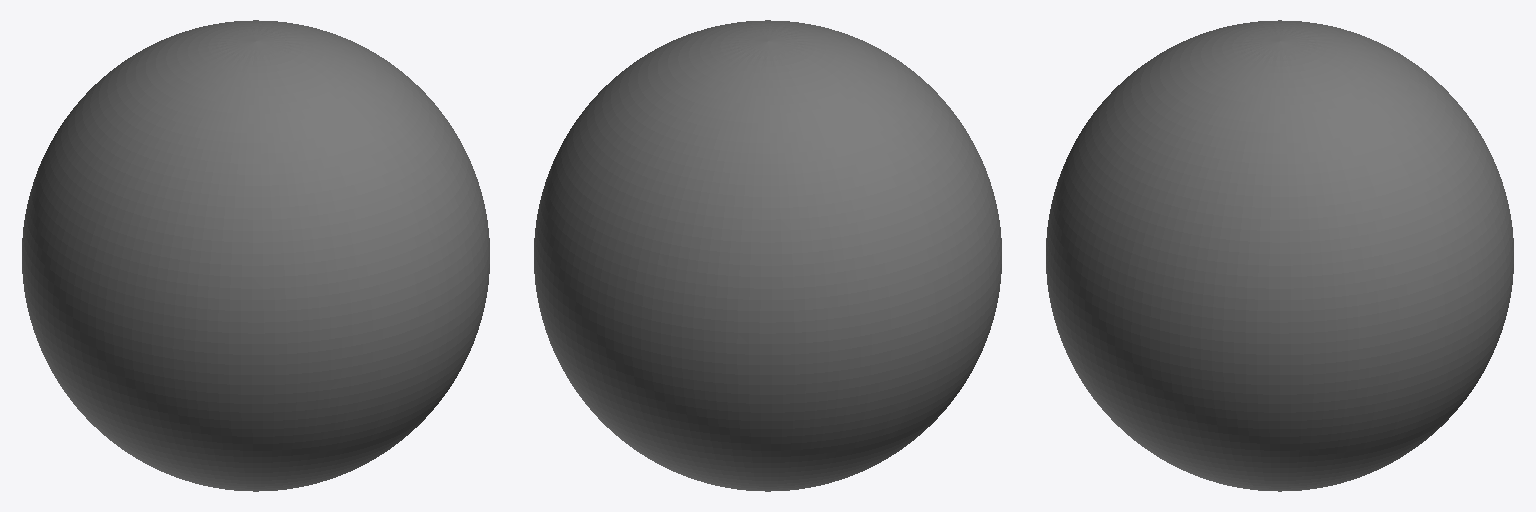
URDF robot description (ball_drop_z_0-5):
<?xml version="1.0"?>
<robot name="ball_drop_z_0-5">
  <link name="base">
    <visual>
      <geometry>
        <mesh filename="ball_drop_z_0-5.obj" scale="1 1 1"/>
      </geometry>
      <material name="gray">
        <color rgba="0.5 0.5 0.5 1.0"/>
      </material>
    </visual>
    <collision>
      <geometry>
        <mesh filename="ball_drop_z_0-5.obj" scale="1 1 1"/>
      </geometry>
    </collision>
    <inertial>
      <mass value="1.000"/>
      <inertia
          ixx="0.026264" ixy="0.000000" ixz="0.000000"
          iyy="0.026264" iyz="0.000000"
          izz="0.025990"/>
      <origin xyz="0.000000 0.000000 0.550000" rpy="0 0 0"/>
    </inertial>
  </link>
</robot>

--- What the picture shows (computed from the rendered views, not written in the file) ---
The picture shows the robot from 3 angles, left to right: view 1: azimuth 30°, elevation 25°; view 2: azimuth 150°, elevation 25°; view 3: azimuth 270°, elevation 25°; orthographic projection.
Robot: ball_drop_z_0-5 — 1 links, 0 joints (none); root link base; default pose: all joints at 0.
Visible links, largest first — view 1: base; view 2: base; view 3: base.
Link boxes in pixels (box(x1,y1,x2,y2)): base: box(22, 20, 489, 491); base: box(534, 20, 1001, 491); base: box(1046, 20, 1513, 491).
Bounding box of the posed robot: 0.3949 × 0.3949 × 0.399 m (x, y, z).
1 mesh visuals loaded from 1 distinct referenced files (1 OBJ).
